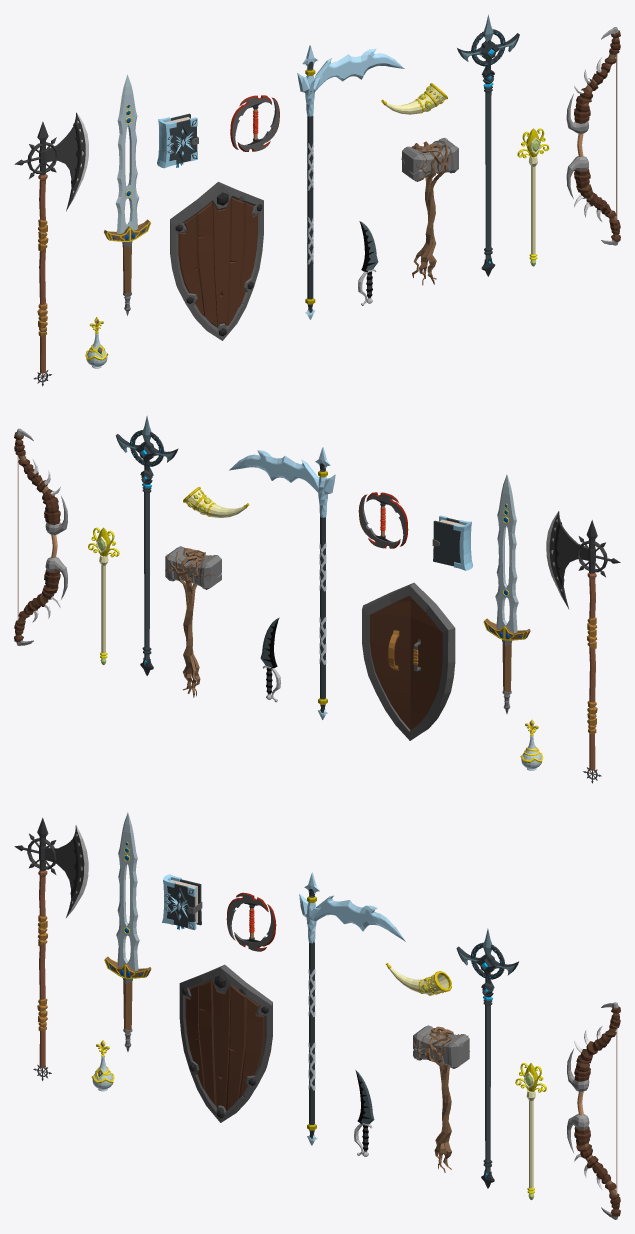
File: free_low_poly_fantasy_rpg_weapons.glb
The picture shows the model from 3 angles, top to bottom: view 1: azimuth 30°, elevation 25°; view 2: azimuth 150°, elevation 25°; view 3: azimuth 330°, elevation 25°; orthographic projection.
Visible parts, largest first — view 1: PP_Theme_01_Shield_005_0, PP_Theme_01_Axe_Two_Handed_002_1, PP_Theme_02_Bow_001_2, PP_Theme_04_Scythe_001_4, PP_Theme_06_Sword_Two-Handed_001_7, PP_Theme_03_Hammer_001_3, PP_Theme_07_Scepter_001_10, PP_Theme_04_Spellbook_003_5, PP_Theme_05_Chakram_001_6, PP_Theme_08_Wand_001_11, PP_Theme_10_Dagger_002_13, PP_Theme_09_Horn_003_12; view 2: PP_Theme_01_Shield_005_0, PP_Theme_01_Axe_Two_Handed_002_1, PP_Theme_02_Bow_001_2, PP_Theme_04_Scythe_001_4, PP_Theme_06_Sword_Two-Handed_001_7, PP_Theme_03_Hammer_001_3, PP_Theme_07_Scepter_001_10, PP_Theme_04_Spellbook_003_5, PP_Theme_05_Chakram_001_6, PP_Theme_08_Wand_001_11, PP_Theme_10_Dagger_002_13, PP_Theme_09_Horn_003_12; view 3: PP_Theme_01_Shield_005_0, PP_Theme_01_Axe_Two_Handed_002_1, PP_Theme_02_Bow_001_2, PP_Theme_04_Scythe_001_4, PP_Theme_06_Sword_Two-Handed_001_7, PP_Theme_03_Hammer_001_3, PP_Theme_07_Scepter_001_10, PP_Theme_04_Spellbook_003_5, PP_Theme_05_Chakram_001_6, PP_Theme_08_Wand_001_11, PP_Theme_09_Horn_003_12, PP_Theme_10_Dagger_002_13.
Boxes of the visible parts, x1,y1,x2,y2 form: PP_Theme_01_Shield_005_0: [170, 181, 263, 340]; PP_Theme_01_Axe_Two_Handed_002_1: [14, 112, 88, 386]; PP_Theme_02_Bow_001_2: [566, 27, 620, 245]; PP_Theme_04_Scythe_001_4: [297, 45, 404, 319]; PP_Theme_06_Sword_Two-Handed_001_7: [104, 74, 150, 315]; PP_Theme_03_Hammer_001_3: [401, 138, 458, 285]; PP_Theme_07_Scepter_001_10: [457, 14, 519, 276]; PP_Theme_04_Spellbook_003_5: [157, 113, 198, 168]; PP_Theme_05_Chakram_001_6: [230, 95, 279, 151]; PP_Theme_08_Wand_001_11: [517, 128, 549, 266]; PP_Theme_10_Dagger_002_13: [358, 221, 378, 305]; PP_Theme_09_Horn_003_12: [381, 83, 447, 114]; PP_Theme_01_Shield_005_0: [362, 582, 455, 740]; PP_Theme_01_Axe_Two_Handed_002_1: [546, 511, 620, 783]; PP_Theme_02_Bow_001_2: [14, 428, 67, 645]; PP_Theme_04_Scythe_001_4: [229, 447, 335, 719]; PP_Theme_06_Sword_Two-Handed_001_7: [483, 474, 530, 713]; PP_Theme_03_Hammer_001_3: [165, 546, 221, 697]; PP_Theme_07_Scepter_001_10: [115, 415, 178, 675]; PP_Theme_04_Spellbook_003_5: [432, 515, 472, 570]; PP_Theme_05_Chakram_001_6: [358, 492, 408, 548]; PP_Theme_08_Wand_001_11: [88, 527, 119, 664]; PP_Theme_10_Dagger_002_13: [260, 617, 280, 702]; PP_Theme_09_Horn_003_12: [183, 487, 249, 517]; PP_Theme_01_Shield_005_0: [179, 964, 272, 1122]; PP_Theme_01_Axe_Two_Handed_002_1: [14, 817, 88, 1080]; PP_Theme_02_Bow_001_2: [567, 1002, 620, 1219]; PP_Theme_04_Scythe_001_4: [299, 872, 405, 1145]; PP_Theme_06_Sword_Two-Handed_001_7: [104, 812, 151, 1051]; PP_Theme_03_Hammer_001_3: [413, 1025, 469, 1172]; PP_Theme_07_Scepter_001_10: [456, 928, 518, 1188]; PP_Theme_04_Spellbook_003_5: [162, 874, 202, 930]; PP_Theme_05_Chakram_001_6: [226, 892, 276, 951]; PP_Theme_08_Wand_001_11: [515, 1062, 546, 1200]; PP_Theme_09_Horn_003_12: [385, 963, 451, 995]; PP_Theme_10_Dagger_002_13: [354, 1070, 374, 1156].
Size of the model in its own units: 4.56 by 2.09 by 0.2474.
Materials: 1 (1 with a texture image).
